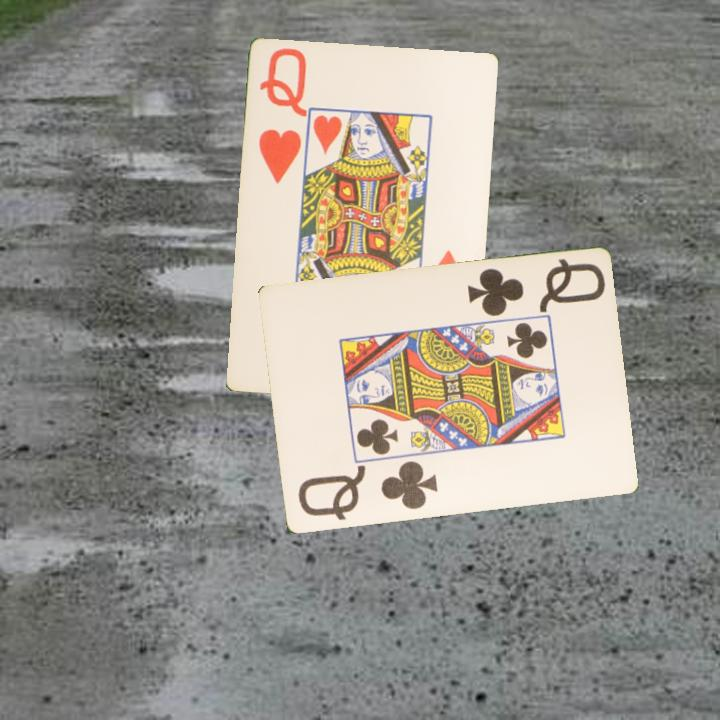Qc: (293, 458, 440, 524), (463, 255, 608, 320)
Qh: (256, 44, 310, 187)
